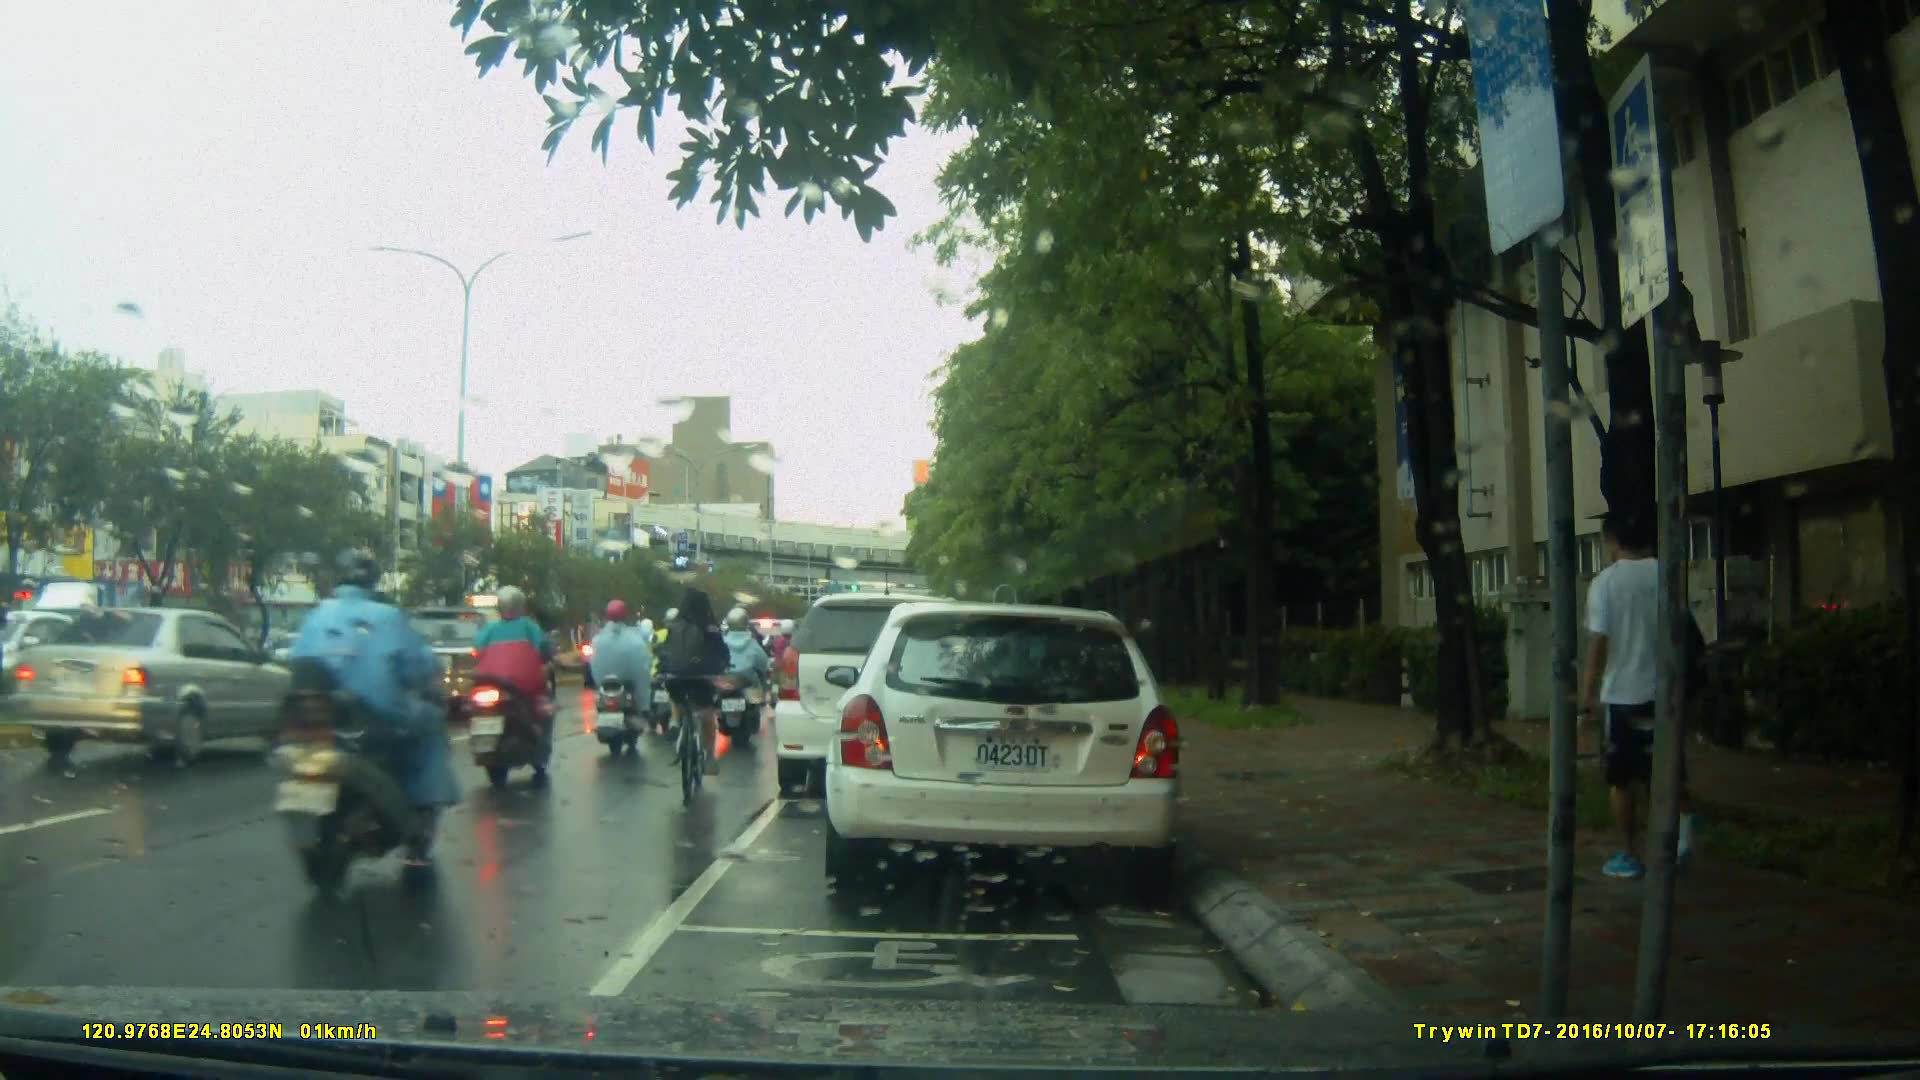pedestrian: (1584, 488, 1708, 922)
rider: (283, 542, 472, 890), (462, 584, 560, 789), (664, 588, 733, 799), (594, 598, 659, 757), (710, 605, 765, 732), (723, 604, 770, 732), (647, 604, 691, 721), (772, 621, 797, 716)
vehicle: (822, 604, 1188, 882), (15, 602, 309, 762), (774, 595, 995, 802), (377, 605, 557, 718)
